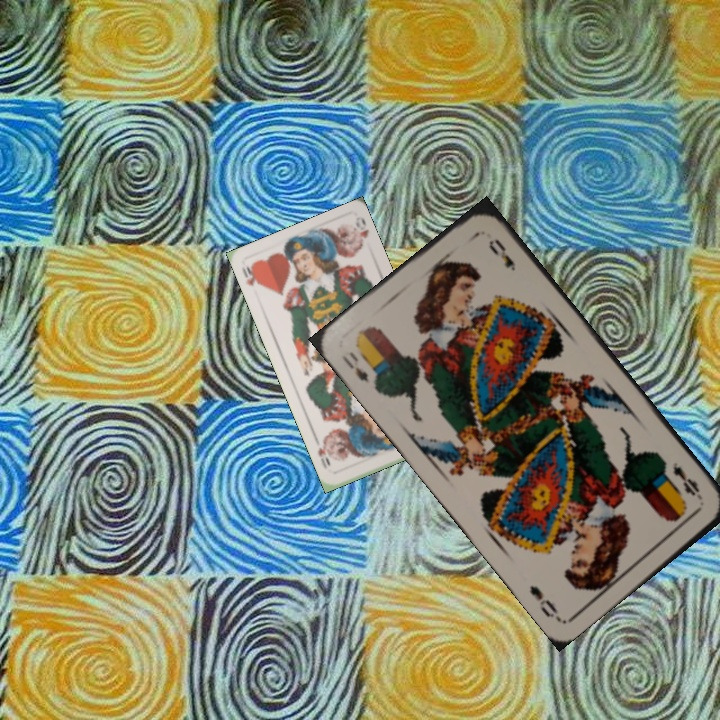EO: (668, 457, 706, 503), (338, 347, 373, 386)
HO: (238, 260, 264, 288)
